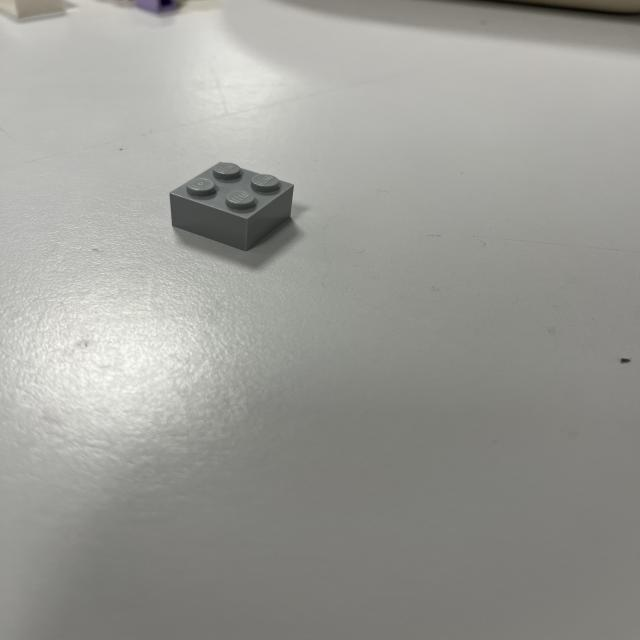C2x2x1: (172, 159, 296, 248)
